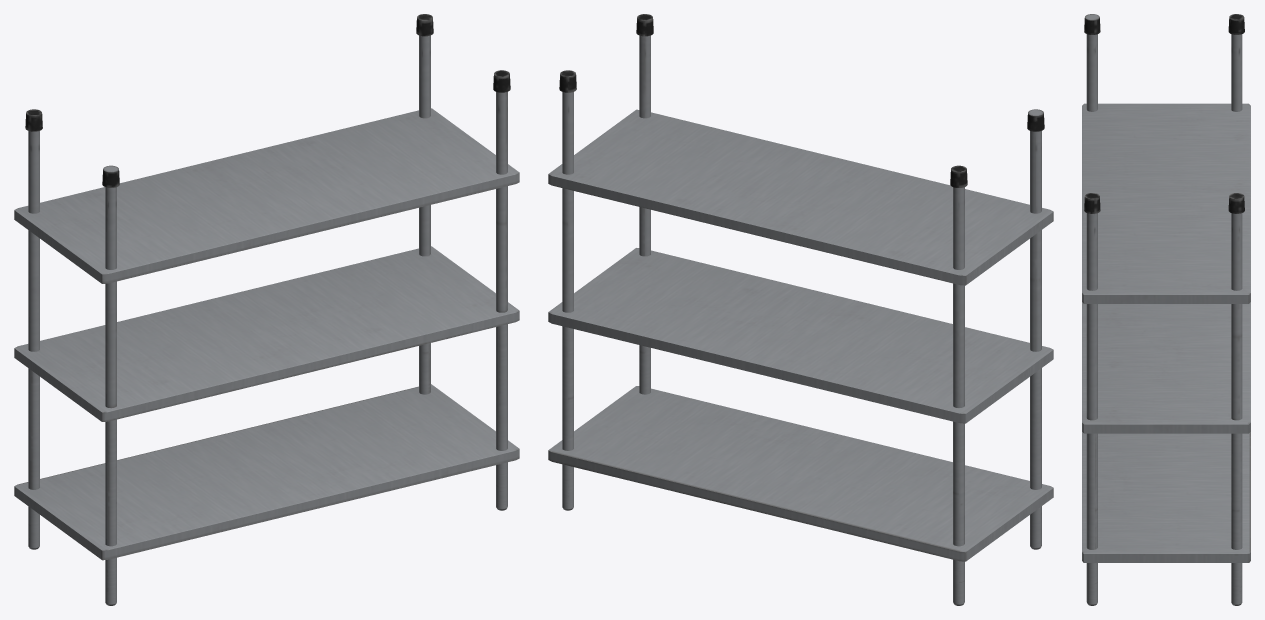
The model's file is Prateleira.fbx.
The picture shows the model from 3 angles, left to right: view 1: azimuth 30°, elevation 25°; view 2: azimuth 150°, elevation 25°; view 3: azimuth 270°, elevation 25°; orthographic projection. The views are drawn at different scales.
Parts seen in each view (by area): view 1: Cylinder.004; view 2: Cylinder.004; view 3: Cylinder.004.
Boxes of the visible parts, x1,y1,x2,y2 form: Cylinder.004: [14, 14, 519, 605]; Cylinder.004: [548, 14, 1053, 605]; Cylinder.004: [1082, 14, 1250, 605].
Size of the model in its own units: 199 by 198 by 74.32.
